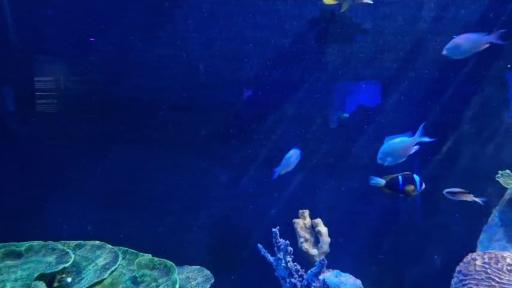Fish: (377, 123, 434, 165), (442, 30, 505, 59), (370, 173, 425, 195), (273, 148, 301, 178), (443, 189, 485, 204), (323, 0, 373, 11)
